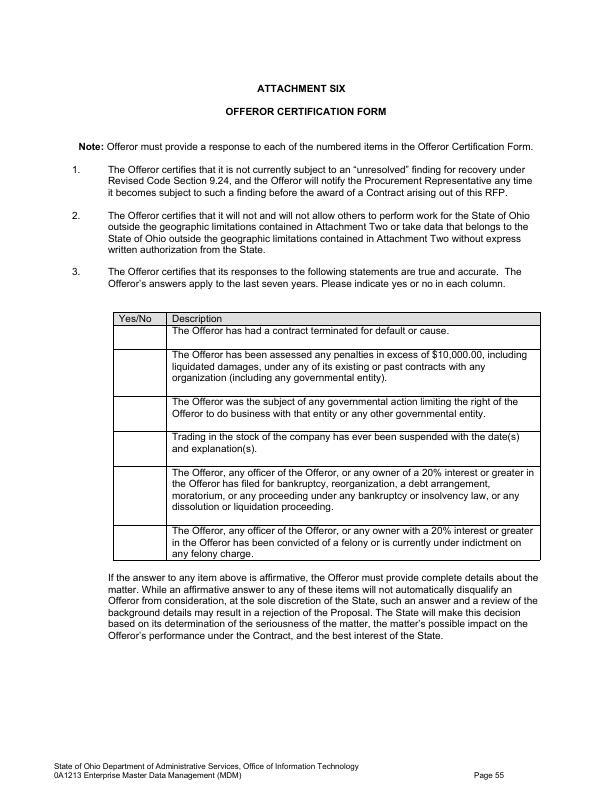table: (109, 306, 549, 566)
text: (104, 570, 549, 648), (67, 206, 540, 257), (67, 161, 540, 202), (67, 263, 536, 293), (71, 135, 539, 156), (49, 758, 367, 783), (222, 80, 392, 123), (471, 767, 513, 783)
